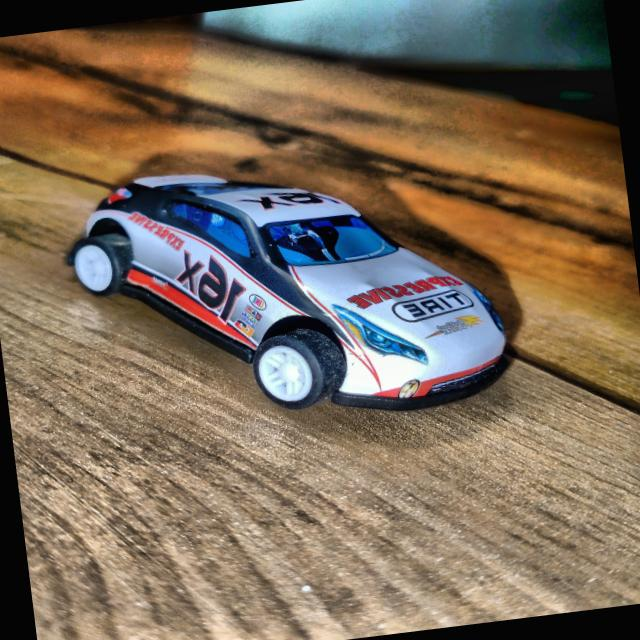Car: (59, 136, 512, 448)
